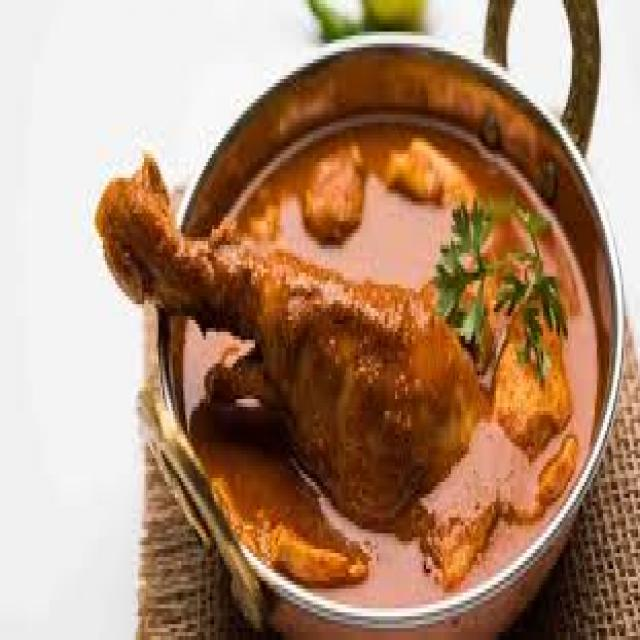Chicken Curry: (84, 87, 601, 600)
